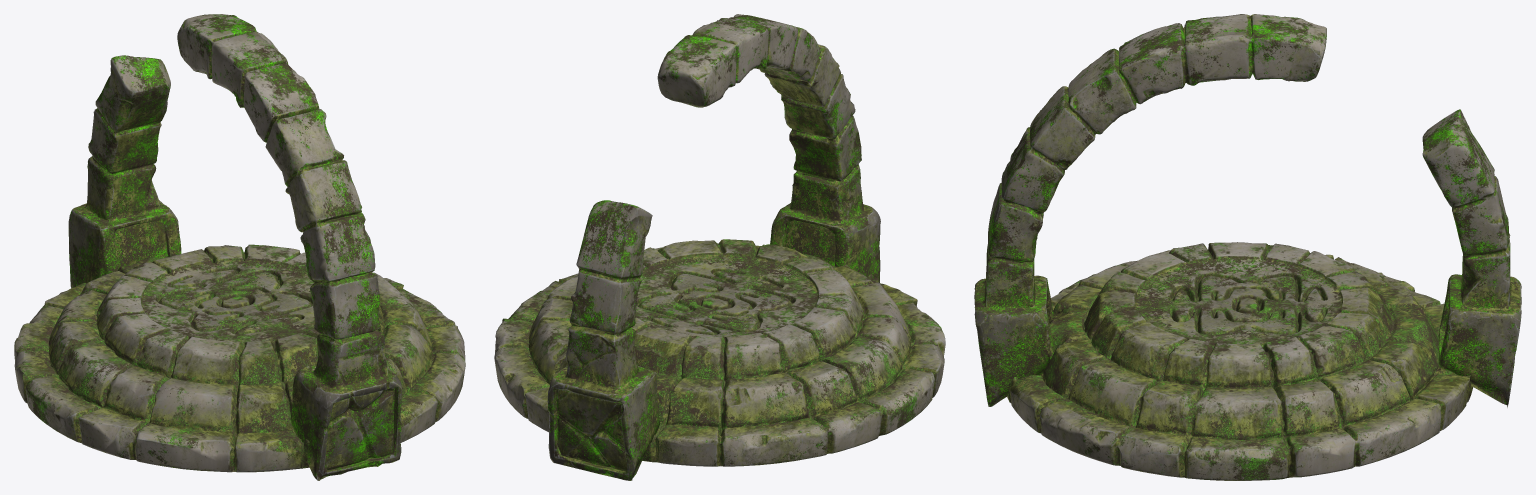
File: oldPortal.fbx
3 views of the same model, side by side, from view 1: azimuth 30°, elevation 25°; view 2: azimuth 150°, elevation 25°; view 3: azimuth 270°, elevation 25° (orthographic). The views are drawn at different scales.
Parts seen in each view (by area): view 1: pCylinder18, pCylinder16; view 2: pCylinder18, pCylinder16; view 3: pCylinder18, pCylinder16.
Part boxes in pixels (x1,y1,x2,y2): pCylinder18: (14,244,465,472); pCylinder16: (68,14,402,480); pCylinder18: (494,239,945,466); pCylinder16: (547,14,880,480); pCylinder18: (1007,242,1473,480); pCylinder16: (974,14,1521,407).
Bounding box in the file's own units: 642 × 542 × 739.
2 materials, 2 textured.
